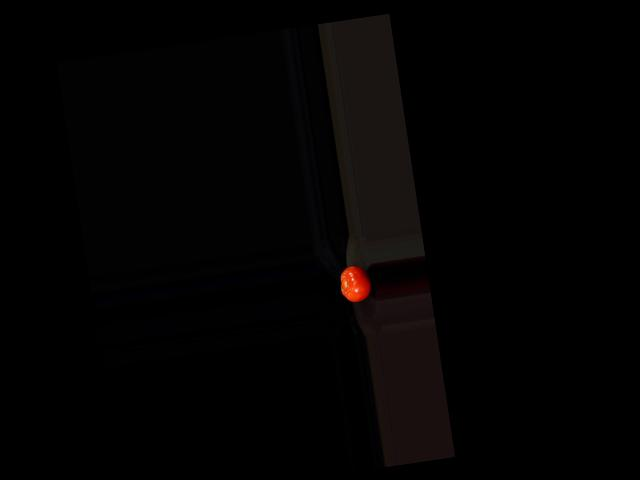tomato: (338, 263, 373, 304)
